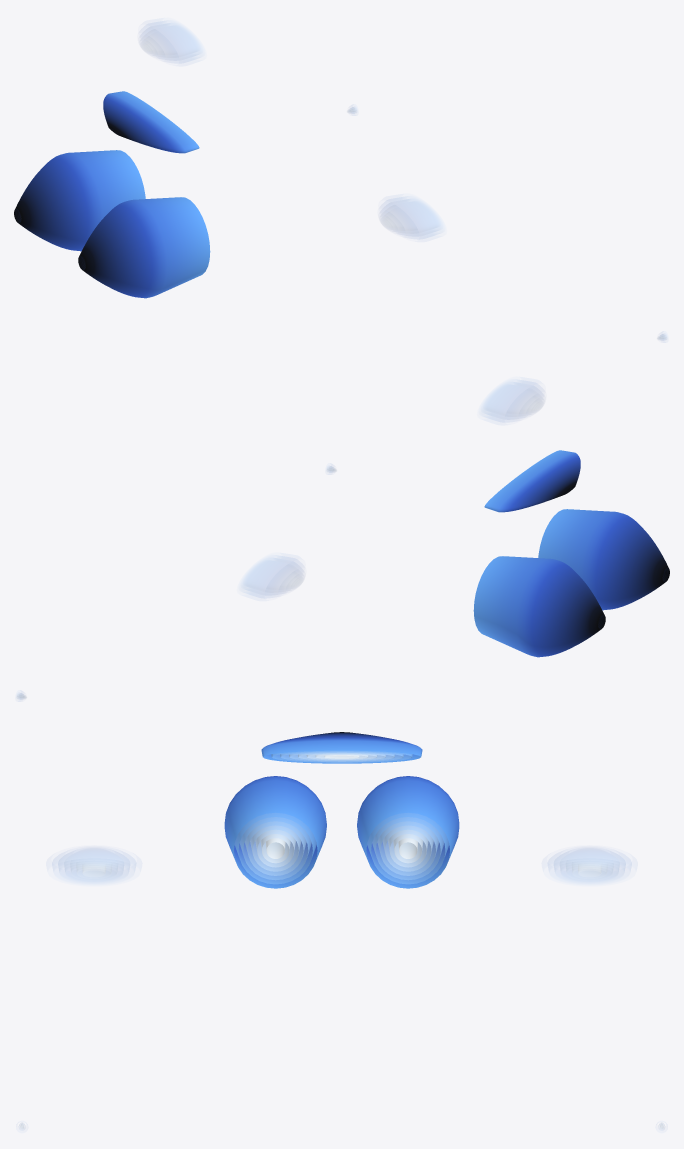
Rendered from plume_t025_nodiamond.glb.
3 renders of one model, top to bottom at view 1: azimuth 30°, elevation 25°; view 2: azimuth 150°, elevation 25°; view 3: azimuth 270°, elevation 25°, orthographic. The views are drawn at different scales.
Parts seen in each view (by area): view 1: Plume_Main_R, Plume_Main_L, Plume_Impulse_C, Plume_WingRoot_R, Plume_WingRoot_L; view 2: Plume_Main_L, Plume_Main_R, Plume_Impulse_C, Plume_WingRoot_L, Plume_WingRoot_R; view 3: Plume_Main_L, Plume_Main_R, Plume_Impulse_C, Plume_WingRoot_L, Plume_WingRoot_R.
Part boxes in pixels (x1,y1,x2,y2): Plume_Main_R: (78,197,210,298); Plume_Main_L: (14,150,145,251); Plume_Impulse_C: (103,91,199,153); Plume_WingRoot_R: (381,197,442,238); Plume_WingRoot_L: (140,21,202,63); Plume_Main_L: (473,556,605,657); Plume_Main_R: (538,509,669,610); Plume_Impulse_C: (484,450,580,512); Plume_WingRoot_L: (241,556,302,597); Plume_WingRoot_R: (481,380,543,422); Plume_Main_L: (357,776,459,888); Plume_Main_R: (224,776,326,888); Plume_Impulse_C: (261,732,422,763); Plume_WingRoot_L: (548,848,631,883); Plume_WingRoot_R: (52,848,135,883).
Size of what is drawn, in the model's own units: 3.81 by 1.62 by 4.55.
2 materials, 2 textured.
